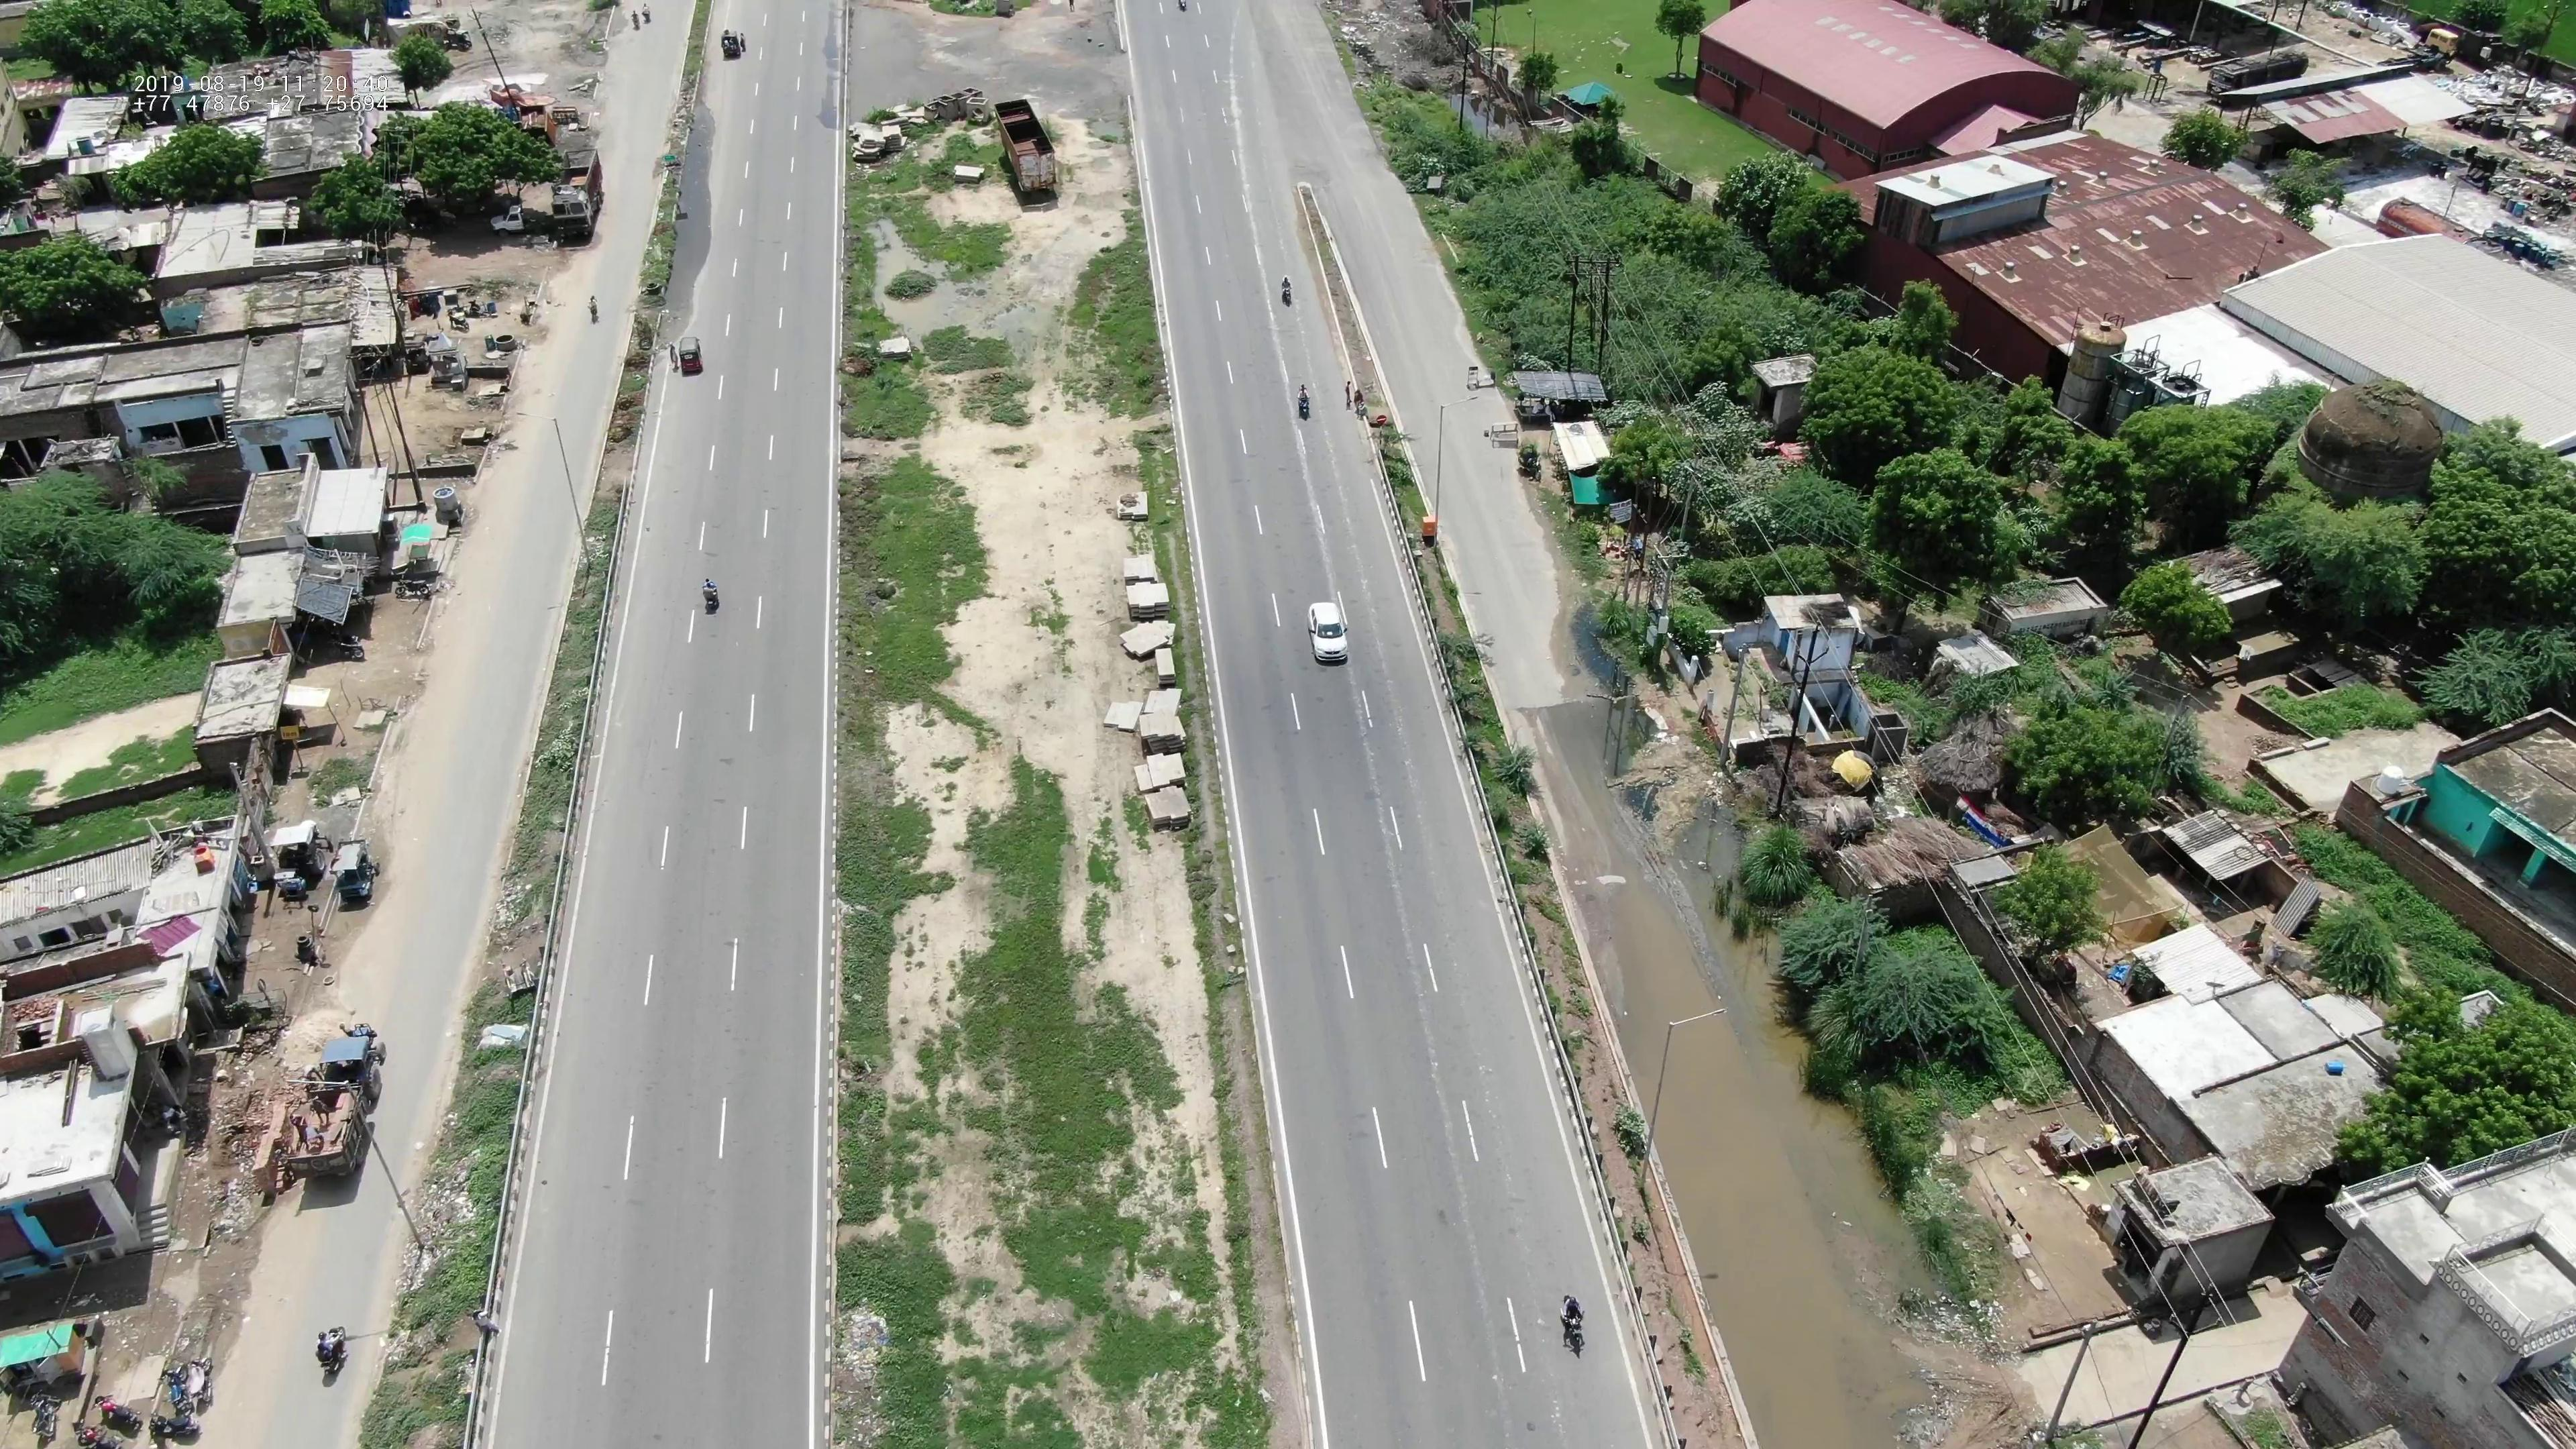Waterlogging: (1596, 858, 1859, 1352), (1527, 630, 1637, 826), (671, 142, 720, 311)
